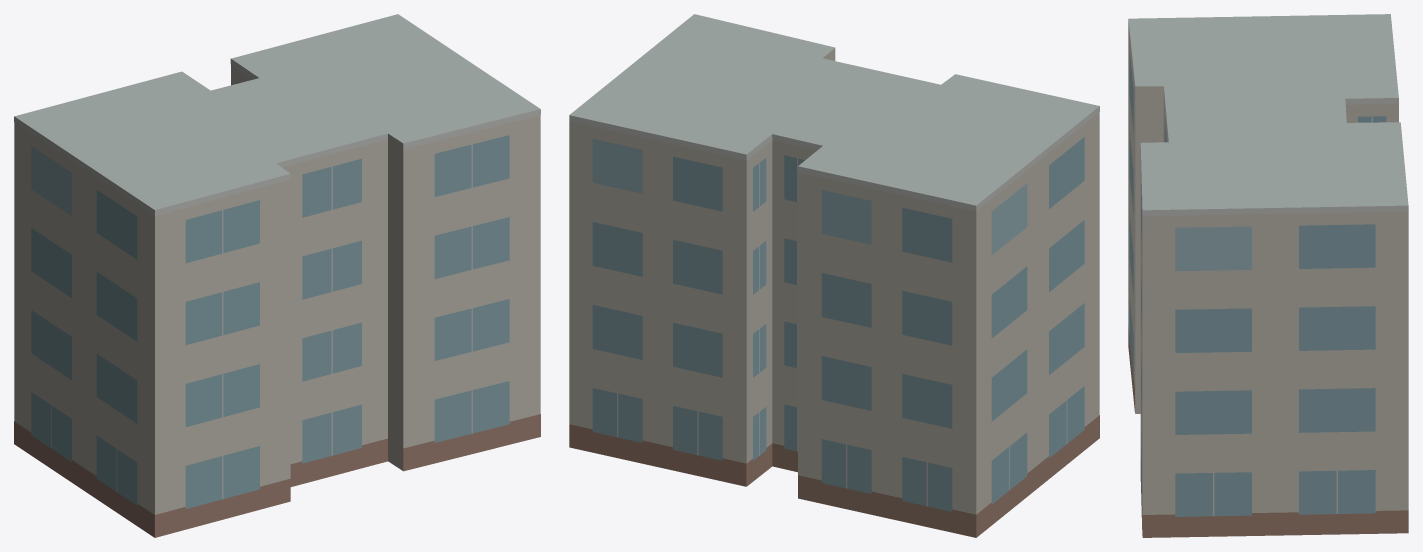
File: survey-upis-32709862.glb
The picture shows the model from 3 angles, left to right: view 1: azimuth 30°, elevation 25°; view 2: azimuth 150°, elevation 25°; view 3: azimuth 270°, elevation 25°; orthographic projection.
Parts seen in each view (by area): view 1: survey-upis-32709862.tmp; view 2: survey-upis-32709862.tmp; view 3: survey-upis-32709862.tmp.
Part boxes in pixels (<box>): survey-upis-32709862.tmp: <box>14,14,540,537</box>; survey-upis-32709862.tmp: <box>569,14,1099,537</box>; survey-upis-32709862.tmp: <box>1128,14,1408,537</box>.
Size of the model in its own units: 17.48 by 13.6 by 10.55.
